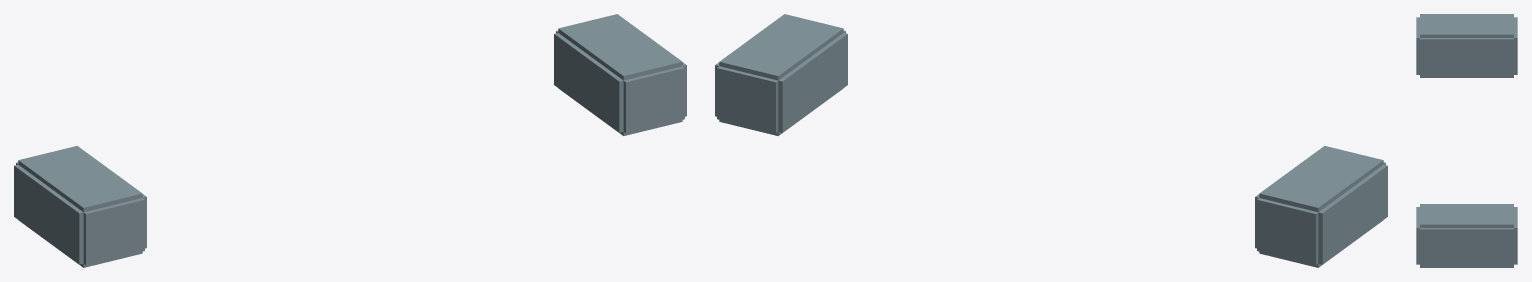
Rendered from Road_CrashBarrier_4m_Feet.glb.
3 views of the same model, side by side, from view 1: azimuth 30°, elevation 25°; view 2: azimuth 150°, elevation 25°; view 3: azimuth 270°, elevation 25° (orthographic). The views are drawn at different scales.
Visible parts, largest first — view 1: Road_CrashBarrier_4m_Feet; view 2: Road_CrashBarrier_4m_Feet; view 3: Road_CrashBarrier_4m_Feet.
Part boxes in pixels (x1,y1,x2,y2): Road_CrashBarrier_4m_Feet: (14,14,686,267); Road_CrashBarrier_4m_Feet: (715,14,1387,267); Road_CrashBarrier_4m_Feet: (1416,14,1517,267).
Bounding box in the file's own units: 3.6 × 0.34 × 0.72.
